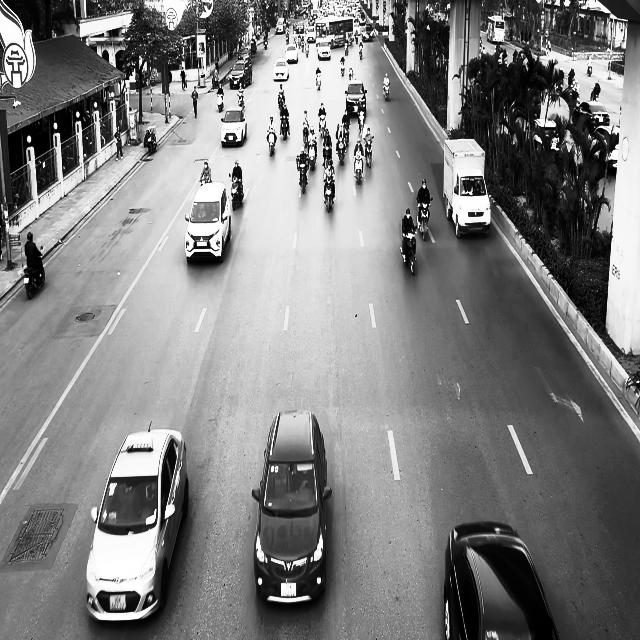bus: (315, 16, 354, 48), (486, 15, 505, 43)
car: (86, 423, 189, 622), (251, 410, 332, 605), (443, 521, 560, 639), (184, 181, 231, 264), (572, 101, 610, 133), (220, 108, 247, 146), (345, 80, 367, 117), (273, 58, 289, 81), (317, 39, 331, 60), (285, 44, 299, 64)
motorbike: (23, 247, 45, 299), (400, 227, 418, 275), (417, 198, 432, 241), (229, 173, 243, 210), (323, 176, 335, 212), (296, 158, 308, 193), (353, 153, 364, 184), (307, 140, 317, 171), (146, 126, 157, 154), (336, 134, 346, 164), (364, 138, 373, 168), (266, 131, 276, 156), (280, 115, 289, 139), (342, 121, 350, 147), (357, 108, 365, 134), (318, 115, 326, 136), (216, 92, 224, 112), (302, 124, 309, 146), (278, 94, 285, 112), (383, 82, 389, 101), (340, 58, 345, 76), (238, 93, 244, 108), (316, 74, 321, 90), (344, 42, 349, 56), (359, 45, 363, 59)
truck: (443, 138, 491, 238)
